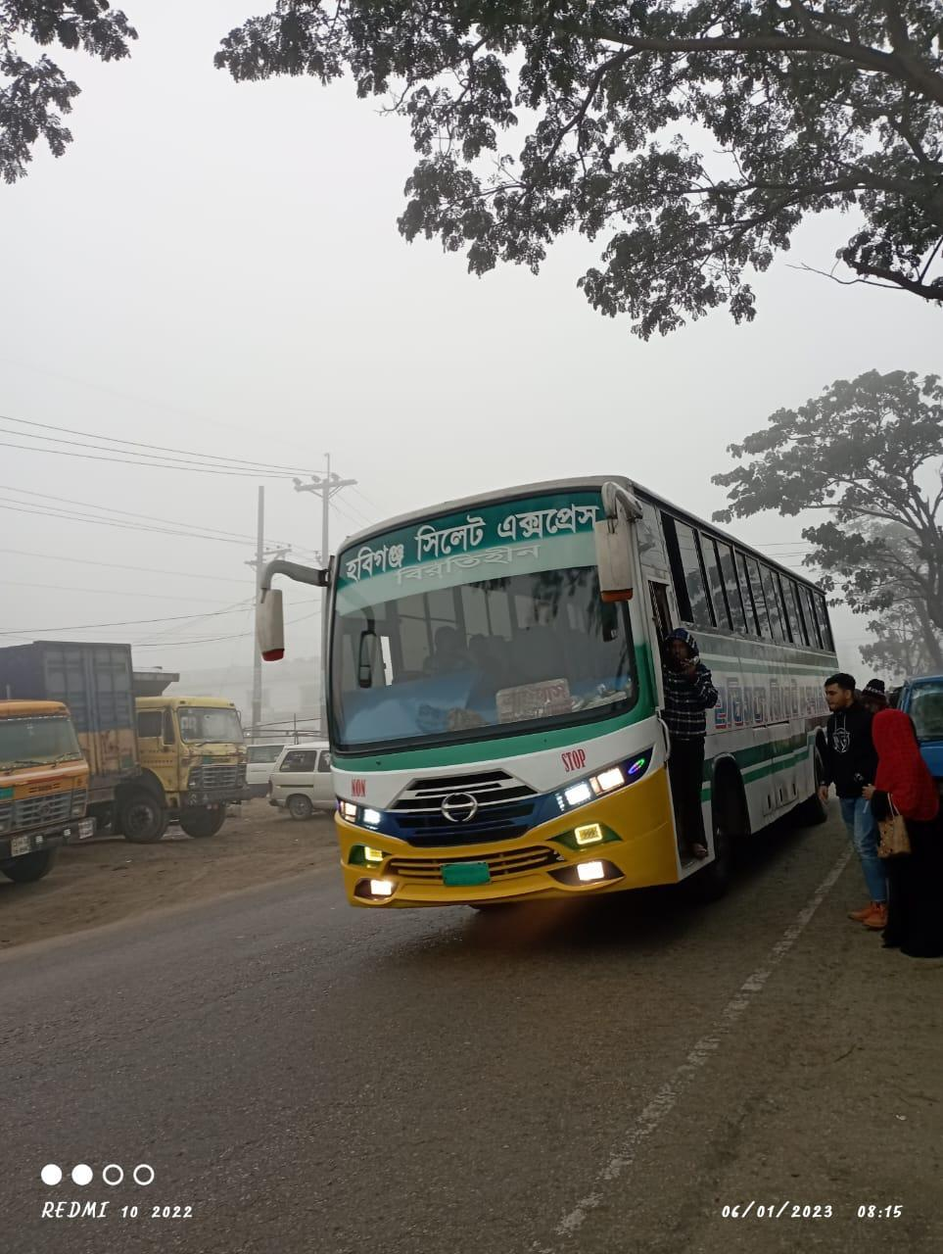Bus: (243, 466, 848, 898)
Car: (262, 728, 331, 827)
Truck: (137, 665, 263, 854), (2, 694, 92, 887)
